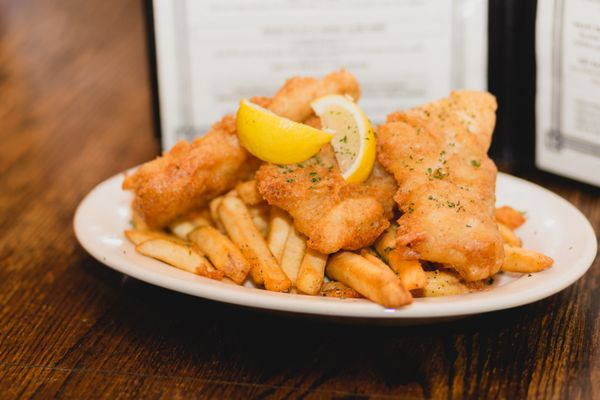sushi: (111, 63, 595, 314)
